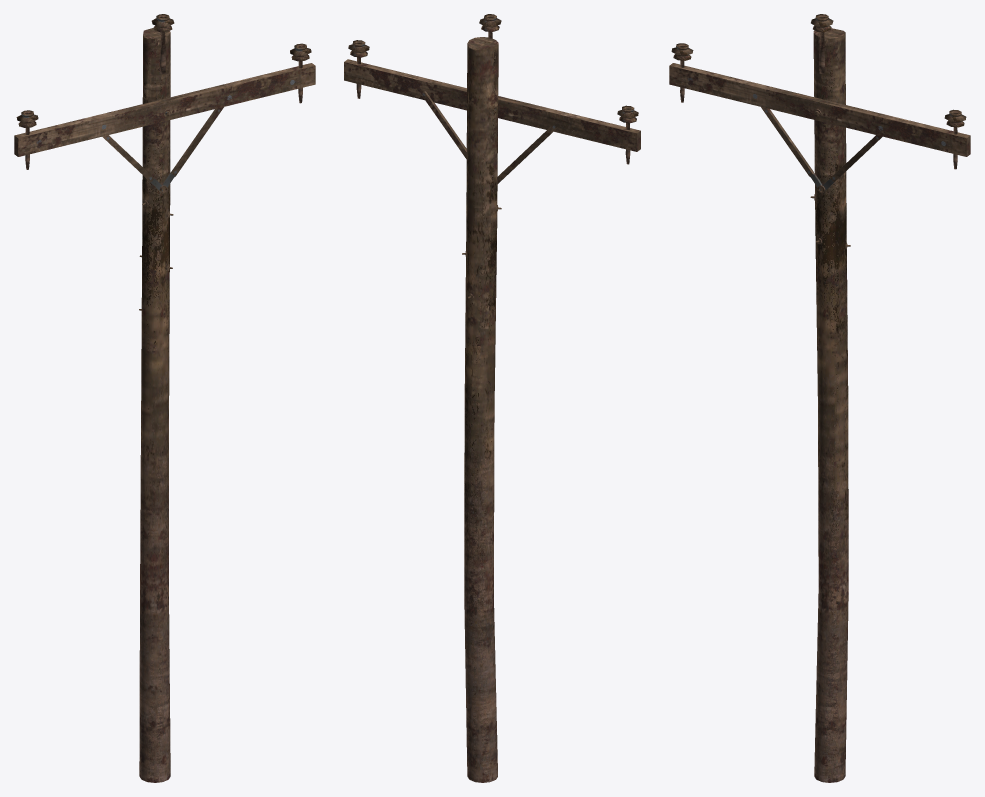
File: Electricity_Post_alone.FBX
The picture shows the model from 3 angles, left to right: view 1: azimuth 30°, elevation 25°; view 2: azimuth 150°, elevation 25°; view 3: azimuth 330°, elevation 25°; orthographic projection.
Parts seen in each view (by area): view 1: Cylinder001; view 2: Cylinder001; view 3: Cylinder001.
Part boxes in pixels (box(x1,y1,x2,y2)): Cylinder001: box(14, 14, 315, 782); Cylinder001: box(344, 14, 640, 782); Cylinder001: box(669, 14, 970, 782).
Size of the model in its own units: 14254 by 35043 by 2098.
